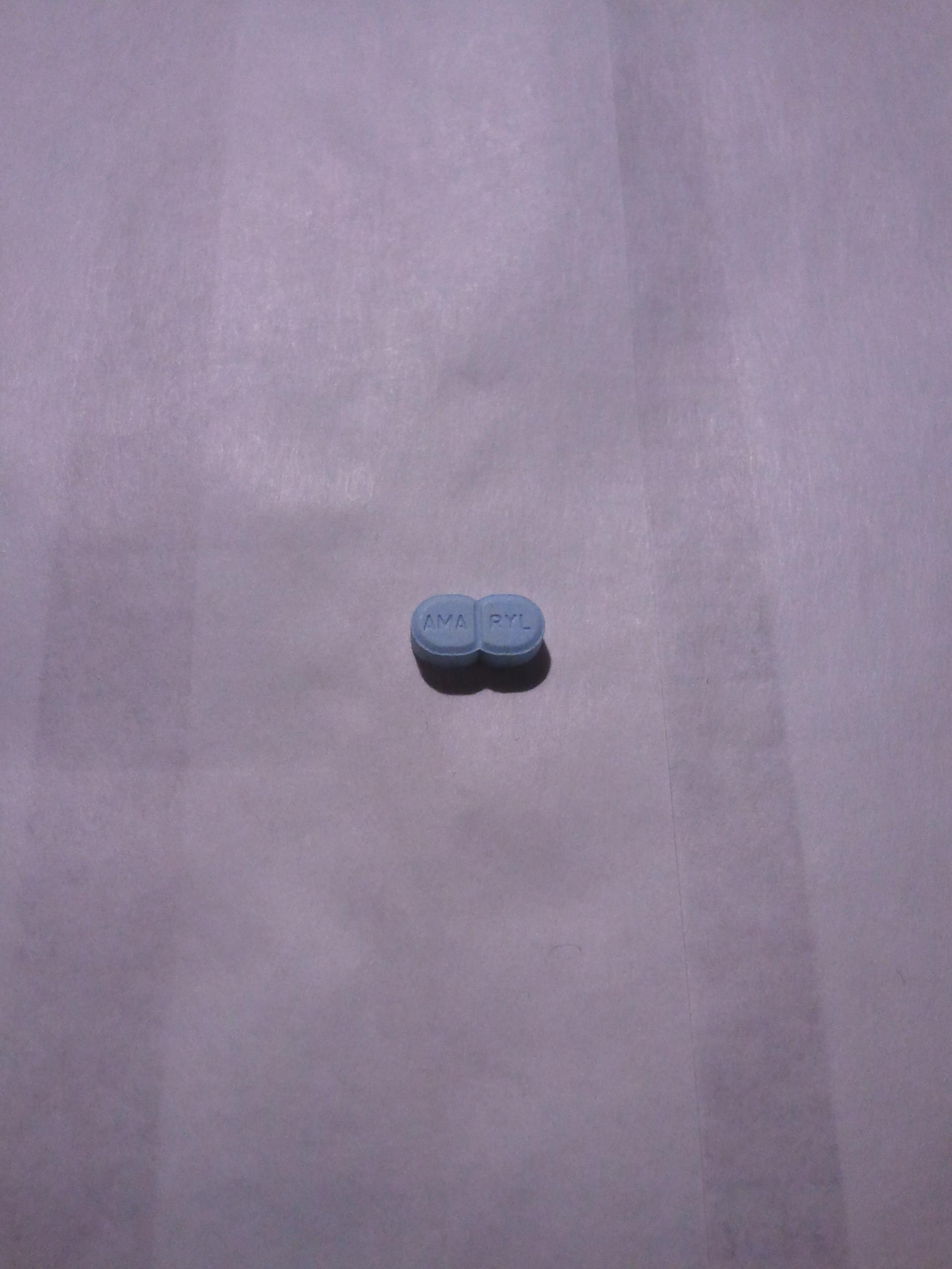Pill: (394, 580, 567, 685)
